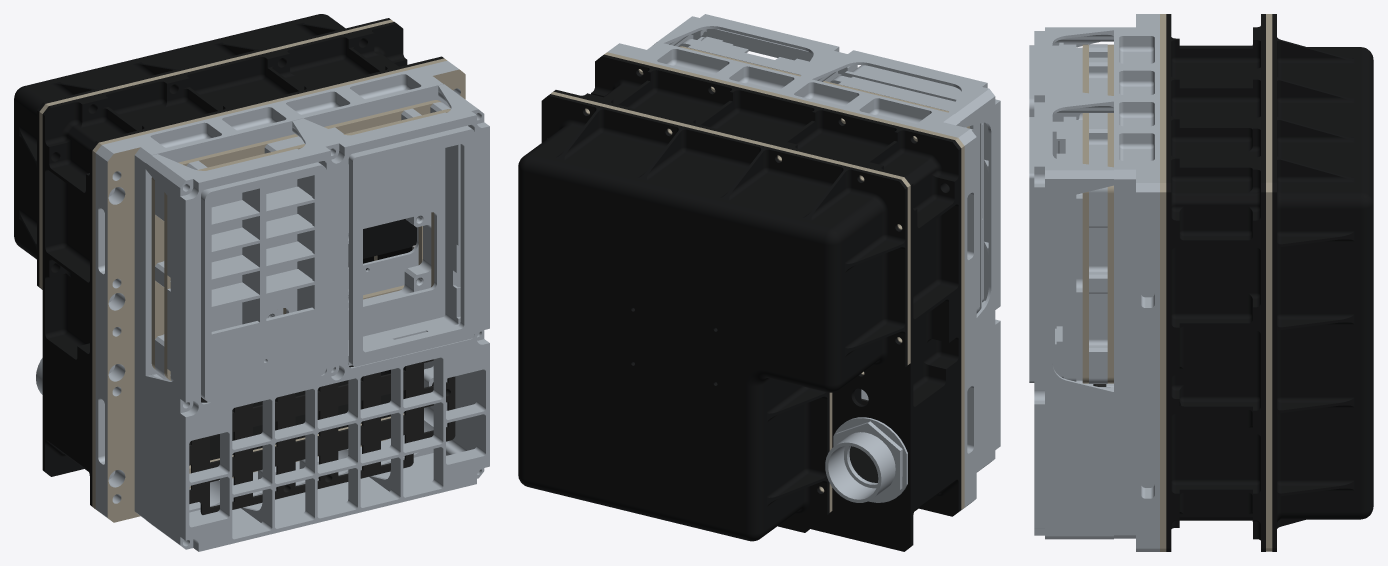
The model's file is DSKY_Assembled.glb.
3 views of the same model, side by side, from view 1: azimuth 30°, elevation 25°; view 2: azimuth 150°, elevation 25°; view 3: azimuth 270°, elevation 25° (orthographic).
Visible parts, largest first — view 1: 2004739A-021 (Top Cover) (4.3" Mod), 2004705A (Intermediate Enclosure), 2004968E (Base Mountplate), 1006315G (Nextion Display Enclosure 4.3 in.), 2004699A-000 (Outer Annunciator Cover), cherrysupport-nopcb, 2004900A (Bottom Enclosure), Nextion 4.3 Faceplate MK.2, Led_splitter, 1006387D (Annunciator Enclosure), 1006387DCover (Annunciator Faceplate), 1006315A (Gasket Plate)_1 (+4 smaller); view 2: 2004900A (Bottom Enclosure), 2004705A (Intermediate Enclosure), 2004739A-021 (Top Cover) (4.3" Mod), 2004968E (Base Mountplate), Connector, DSKYIntermediateGasket, DSKYRearGasket, 2004699A-000 (Outer Annunciator Cover), 1006387D (Annunciator Enclosure), 1006315G (Nextion Display Enclosure 4.3 in.), Nextion 4.3 Faceplate MK.2; view 3: 2004900A (Bottom Enclosure), 2004705A (Intermediate Enclosure), 2004968E (Base Mountplate), 2004739A-021 (Top Cover) (4.3" Mod), 1006315G (Nextion Display Enclosure 4.3 in.), 2004919E (Intermediate Display Support), DSKYIntermediateGasket, DSKYRearGasket, 1006315A (Gasket Plate)_1, 1006315A (Gasket Plate)_2, Nextion 4.3 Faceplate MK.2, 2004699A-000 (Outer Annunciator Cover) (+1 smaller).
Boxes of the visible parts, left/top/right/bottom form: 2004739A-021 (Top Cover) (4.3" Mod): left=145, top=84, right=489, bottom=551; 2004705A (Intermediate Enclosure): left=42, top=22, right=443, bottom=508; 2004968E (Base Mountplate): left=95, top=60, right=465, bottom=522; 1006315G (Nextion Display Enclosure 4.3 in.): left=348, top=112, right=460, bottom=350; 2004699A-000 (Outer Annunciator Cover): left=175, top=162, right=326, bottom=402; cherrysupport-nopcb: left=189, top=359, right=455, bottom=514; 2004900A (Bottom Enclosure): left=14, top=14, right=390, bottom=367; Nextion 4.3 Faceplate MK.2: left=348, top=125, right=474, bottom=366; Led_splitter: left=211, top=186, right=312, bottom=324; 1006387D (Annunciator Enclosure): left=167, top=149, right=310, bottom=381; 1006387DCover (Annunciator Faceplate): left=211, top=174, right=319, bottom=361; 1006315A (Gasket Plate)_1: left=151, top=100, right=441, bottom=369; 2004900A (Bottom Enclosure): left=518, top=94, right=907, bottom=541; 2004705A (Intermediate Enclosure): left=553, top=54, right=961, bottom=551; 2004739A-021 (Top Cover) (4.3" Mod): left=654, top=14, right=1000, bottom=472; 2004968E (Base Mountplate): left=607, top=42, right=976, bottom=509; Connector: left=825, top=417, right=907, bottom=502; DSKYIntermediateGasket: left=604, top=52, right=964, bottom=511; DSKYRearGasket: left=551, top=91, right=910, bottom=512; 2004699A-000 (Outer Annunciator Cover): left=840, top=65, right=983, bottom=310; 1006387D (Annunciator Enclosure): left=830, top=75, right=979, bottom=312; 1006315G (Nextion Display Enclosure 4.3 in.): left=678, top=36, right=809, bottom=74; Nextion 4.3 Faceplate MK.2: left=703, top=29, right=813, bottom=61; 2004900A (Bottom Enclosure): left=1272, top=14, right=1373, bottom=551; 2004705A (Intermediate Enclosure): left=1166, top=14, right=1265, bottom=551; 2004968E (Base Mountplate): left=1114, top=14, right=1159, bottom=551; 2004739A-021 (Top Cover) (4.3" Mod): left=1034, top=27, right=1113, bottom=539; 1006315G (Nextion Display Enclosure 4.3 in.): left=1052, top=116, right=1082, bottom=381; 2004919E (Intermediate Display Support): left=1089, top=44, right=1107, bottom=383; DSKYIntermediateGasket: left=1160, top=14, right=1166, bottom=551; DSKYRearGasket: left=1266, top=14, right=1272, bottom=551; 1006315A (Gasket Plate)_1: left=1107, top=44, right=1113, bottom=383; 1006315A (Gasket Plate)_2: left=1082, top=44, right=1088, bottom=383; Nextion 4.3 Faceplate MK.2: left=1029, top=117, right=1034, bottom=382; 2004699A-000 (Outer Annunciator Cover): left=1029, top=42, right=1063, bottom=158.
Bounding box in the file's own units: 0.2065 × 0.2033 × 0.1716.
